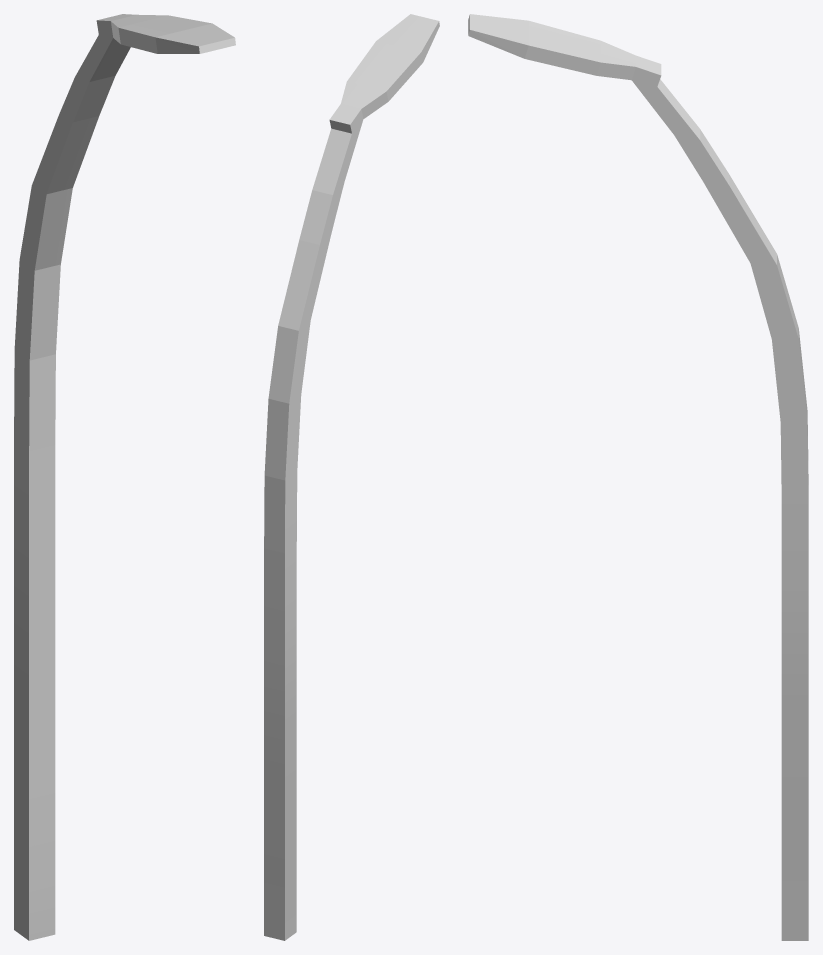
File: light_3_3_world_ap_0_lev1.glb
3 renders of one model, left to right at view 1: azimuth 30°, elevation 25°; view 2: azimuth 150°, elevation 25°; view 3: azimuth 270°, elevation 25°, orthographic. The views are drawn at different scales.
Visible parts, largest first — view 1: light_3_3_world_ap_0_lev1; view 2: light_3_3_world_ap_0_lev1; view 3: light_3_3_world_ap_0_lev1.
Boxes of the visible parts, x1=… form: light_3_3_world_ap_0_lev1: x1=14, y1=14, x2=235, y2=940; light_3_3_world_ap_0_lev1: x1=264, y1=14, x2=439, y2=940; light_3_3_world_ap_0_lev1: x1=468, y1=14, x2=808, y2=940.
Size of the model in its own units: 0.1744 by 2.99 by 1.01.
1 material, 1 textured.
